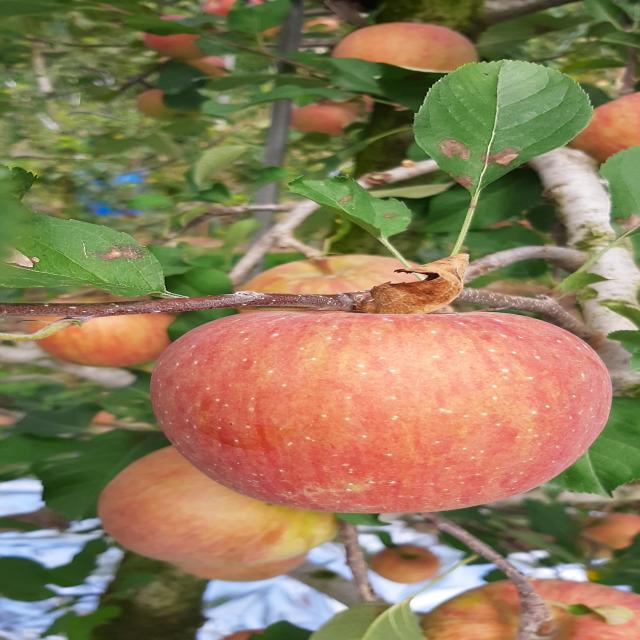fresh: (136, 297, 628, 521)
